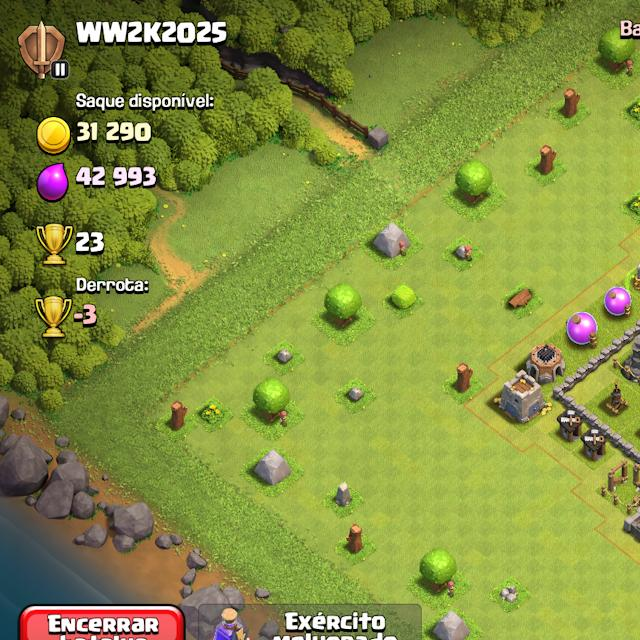ValueCoin: (74, 118, 159, 148)
ValueElixir: (72, 161, 166, 195)
